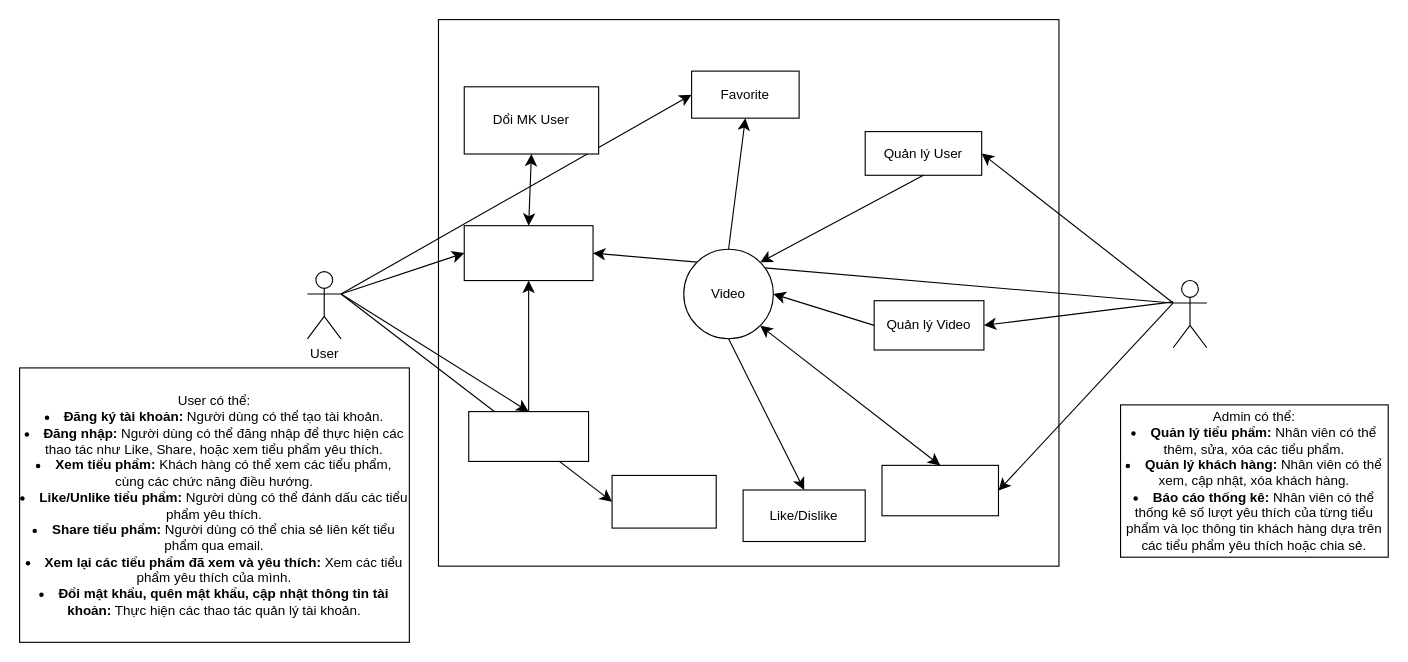
The diagram is 1408 pixels wide and 662 high, and some of its shapes have lost their labels. Here are the shapes that lost their labels. From the top down, the box of each, then its label:
(463, 225, 593, 281): Đăng Nhập User
(1172, 279, 1207, 348): Admin
(468, 410, 589, 461): Đăng ký User
(611, 474, 716, 528): Share
(881, 464, 998, 516): Báo cáo thống kê
